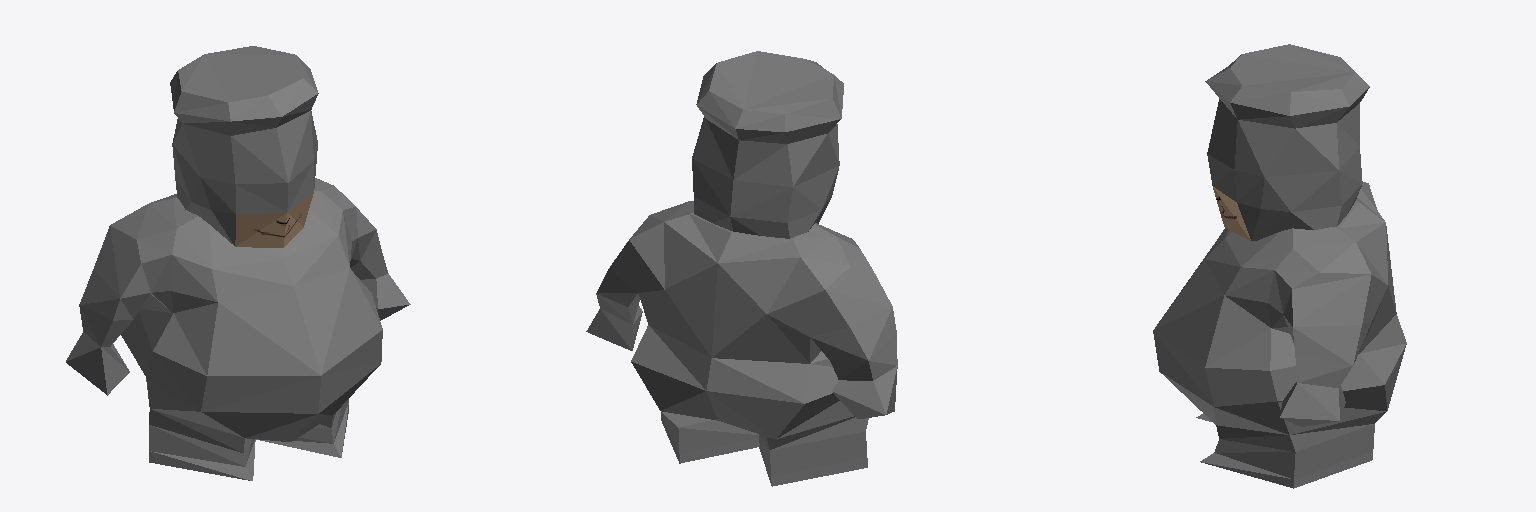
The picture shows the model from 3 angles: view 1: azimuth 30°, elevation 25°; view 2: azimuth 150°, elevation 25°; view 3: azimuth 270°, elevation 25°; orthographic projection.
Parts seen in each view (by area): view 1: DrawCall_8_materi.004; view 2: DrawCall_8_materi.004; view 3: DrawCall_8_materi.004.
Part boxes in pixels (bbox=[...]): DrawCall_8_materi.004: bbox=[66, 46, 410, 480]; DrawCall_8_materi.004: bbox=[586, 51, 897, 486]; DrawCall_8_materi.004: bbox=[1153, 44, 1406, 488].
Bounding box in the file's own units: 1.07 × 1.23 × 0.7617.
Materials: 6 (1 with a texture image).